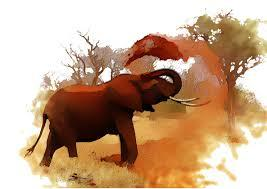elephant: (27, 69, 198, 165)
